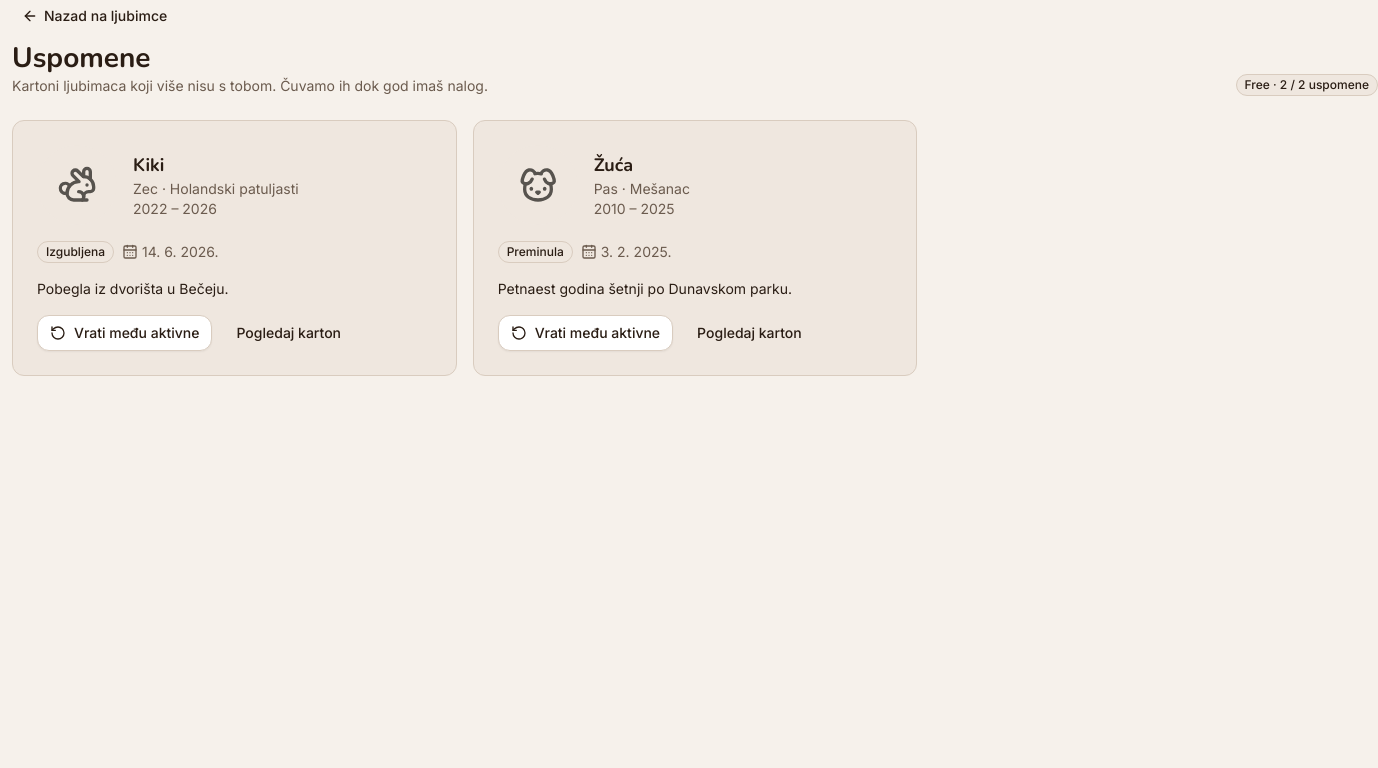
Test: S06 — Uspomene › FR-12: premium_required from EP-07 (limit pets) shows the same PremiumLock
The width and height of the screenshot is (1378, 768).
Click the button "Vrati među aktivne" below "3. 2. 2025.".
click(585, 333)  # box [498, 315, 673, 351]
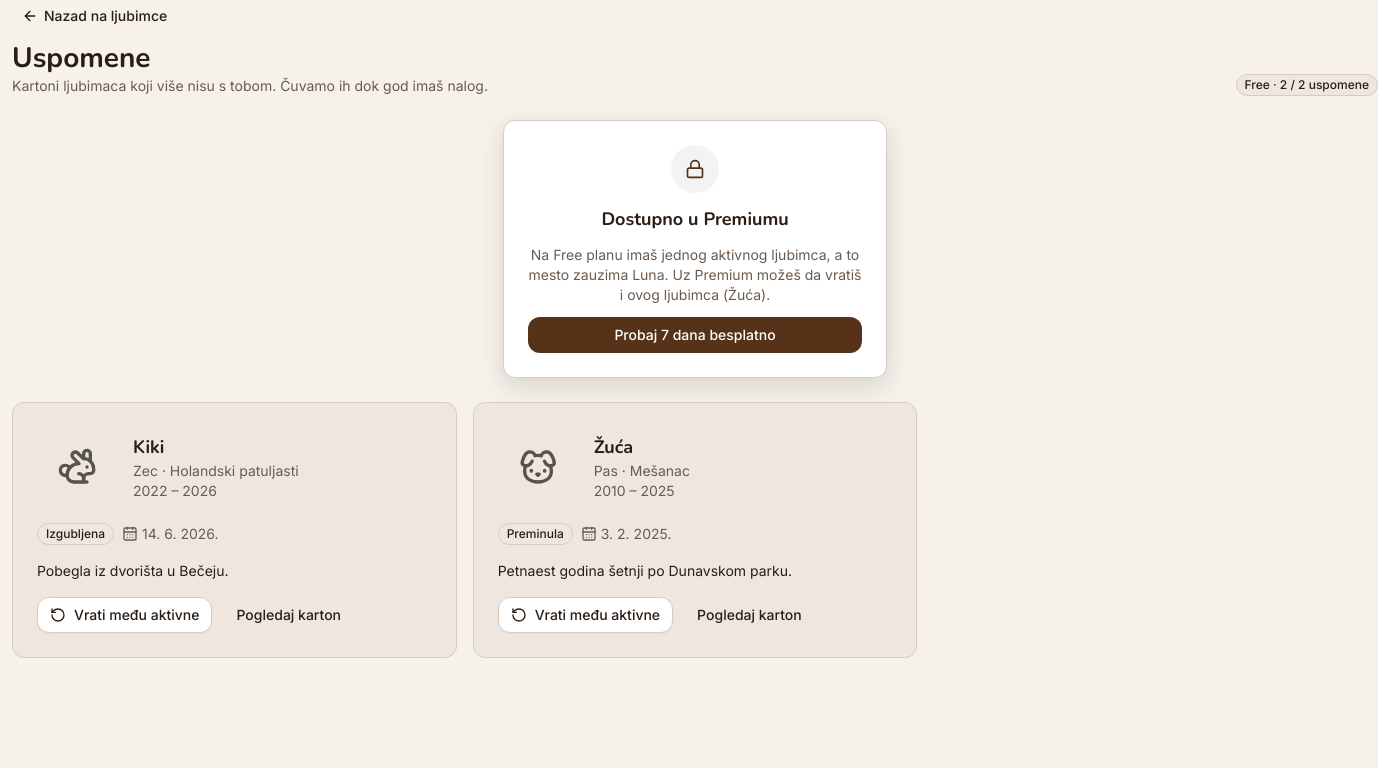
Expected: the number of elements with test id "memorial-card" is 2, [12, 402, 457, 658]; [473, 402, 917, 658]
Expected: the element named "Vraćanje ljubimca među aktivne" shows "a to mesto zauzima Luna. Uz Premium možeš da vratiš i ovog ljubimca (Žuća).", [528, 246, 861, 303]
